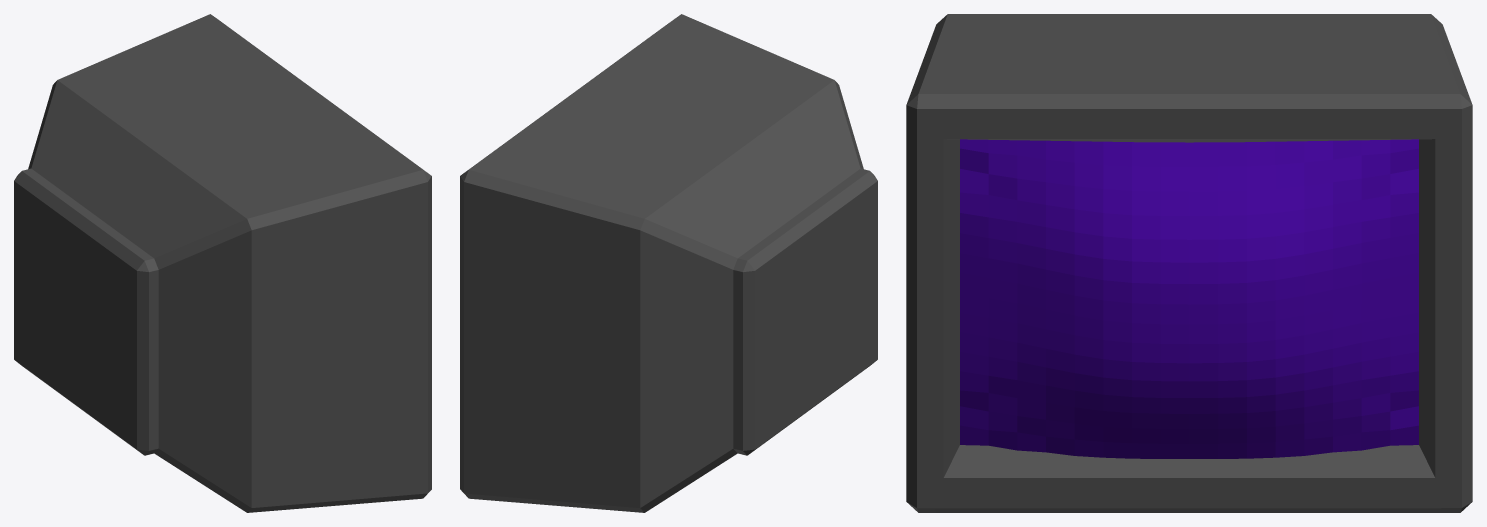
The picture shows the model from 3 angles, left to right: view 1: azimuth 30°, elevation 25°; view 2: azimuth 150°, elevation 25°; view 3: azimuth 270°, elevation 25°; orthographic projection. The views are drawn at different scales.
Parts seen in each view (by area): view 1: pCube1; view 2: pCube1; view 3: pCube1.
Boxes of the visible parts, left/top/right/bottom form: pCube1: left=14, top=14, right=431, bottom=512; pCube1: left=460, top=14, right=877, bottom=512; pCube1: left=906, top=14, right=1472, bottom=512.
Bounding box in the file's own units: 3.2 × 3.66 × 4.48.
